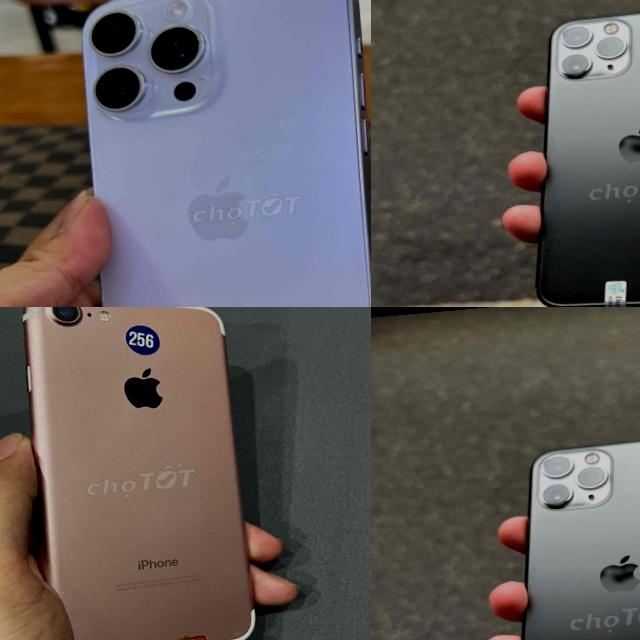gen_11: (503, 1, 640, 307), (484, 431, 640, 640)
gen_15: (53, 0, 371, 307)
gen_7_8: (3, 307, 267, 640)
